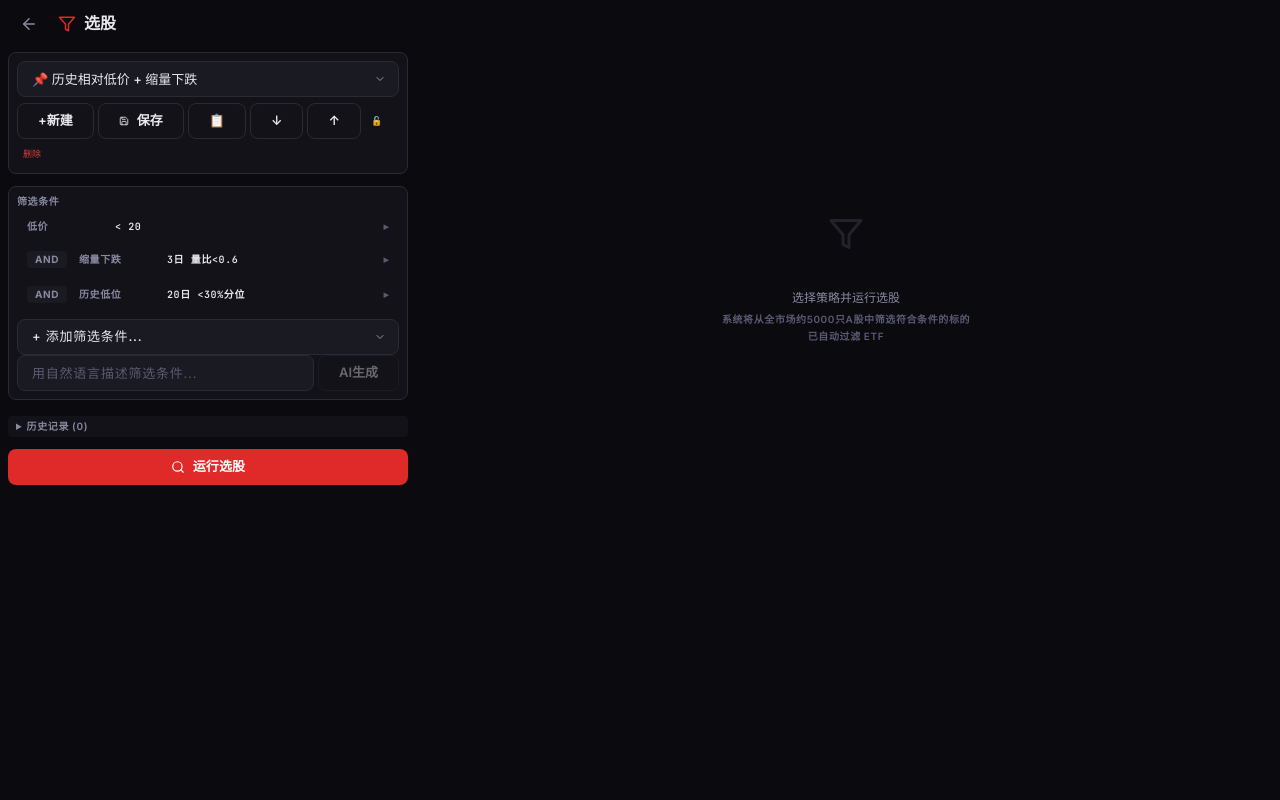
Scenario: ScreenerPage › paginates results with 50 per page and navigates pages
This screenshot has width=1280, height=800.
Check: the text "低价" is shown, box x1=27 y1=220 x2=48 y2=232
Click the button "运行选股". click: (208, 466)
box: x1=8 y1=448 x2=408 y2=484
(page scrolled)
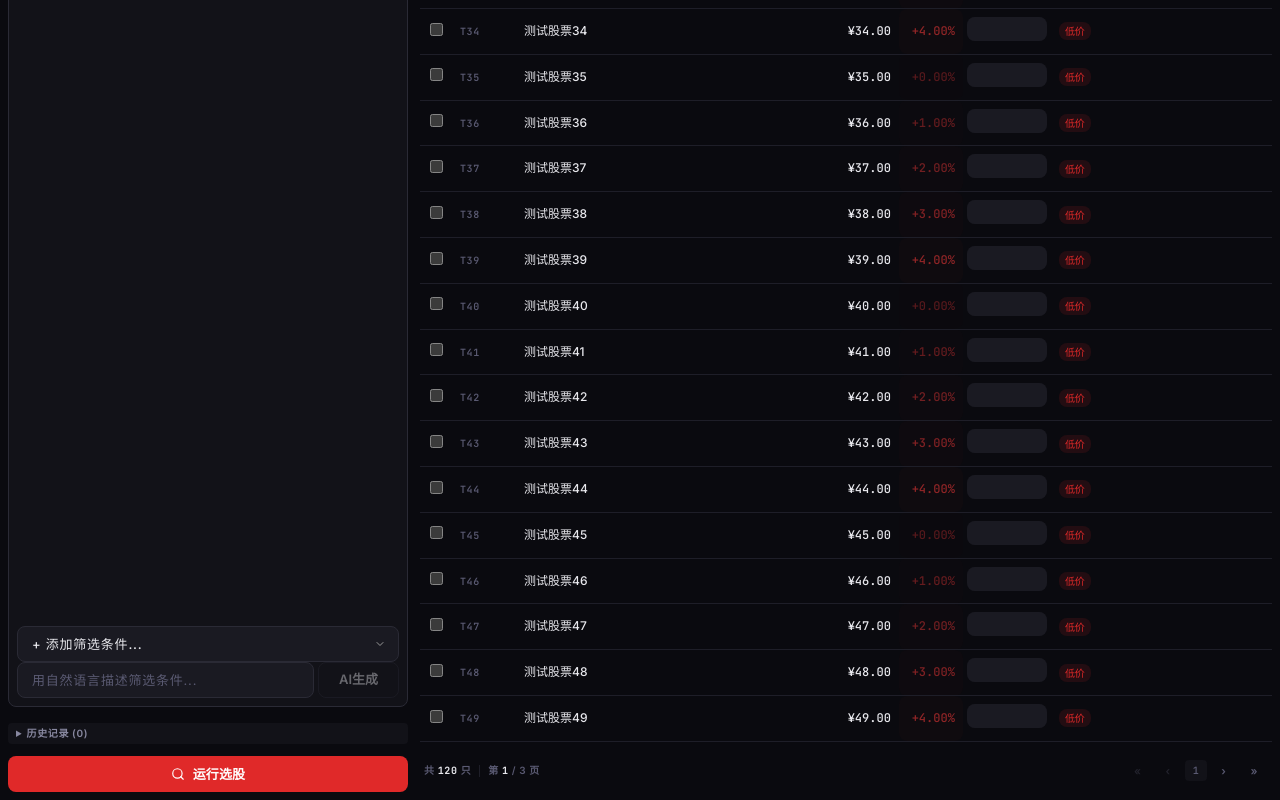
Check: the text "共 120 只" is shown, box x1=424 y1=764 x2=471 y2=778
Check: the text "第 1 / 3 页" is shown, box x1=488 y1=764 x2=540 y2=778
//  跳转到最后一页
Click the button "»". click: (1254, 771)
box: x1=1240 y1=758 x2=1268 y2=784
(page scrolled)
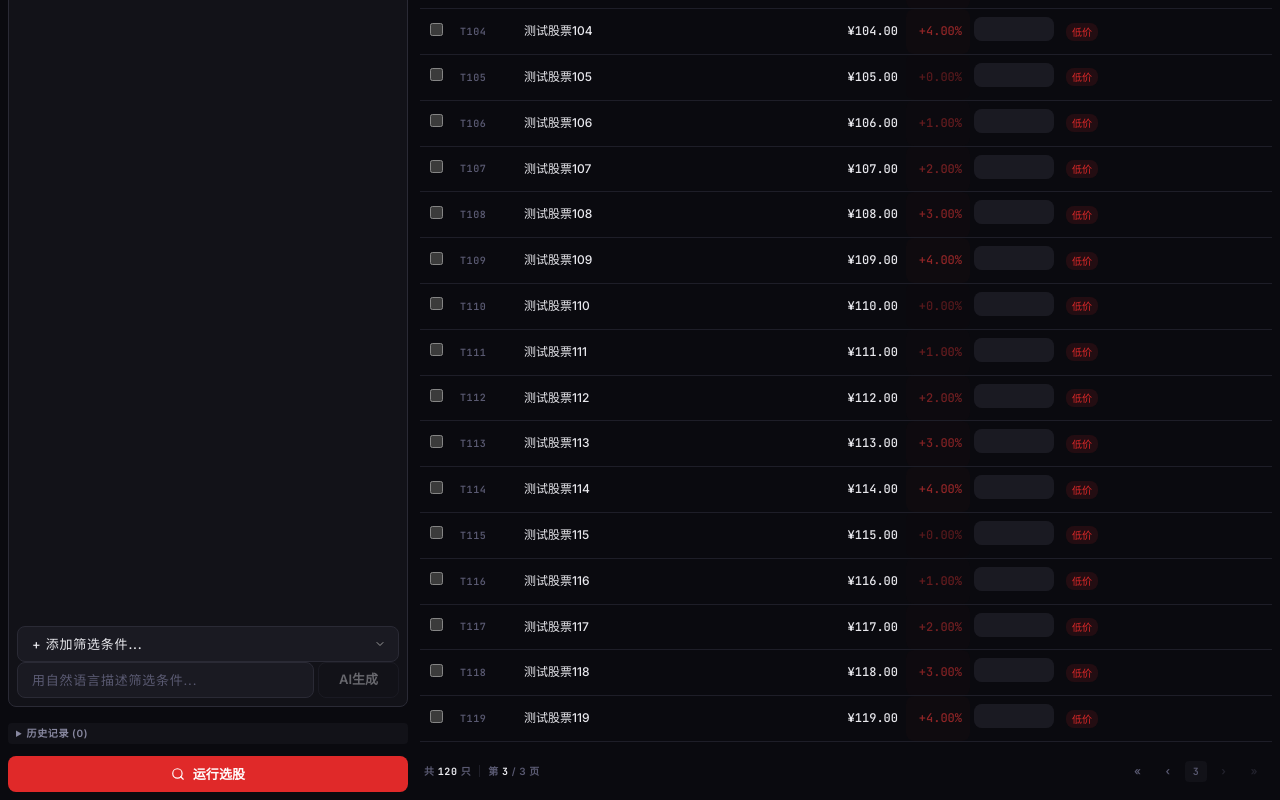
Click the button "«". click: (1138, 771)
box: x1=1124 y1=758 x2=1152 y2=784
(page scrolled)
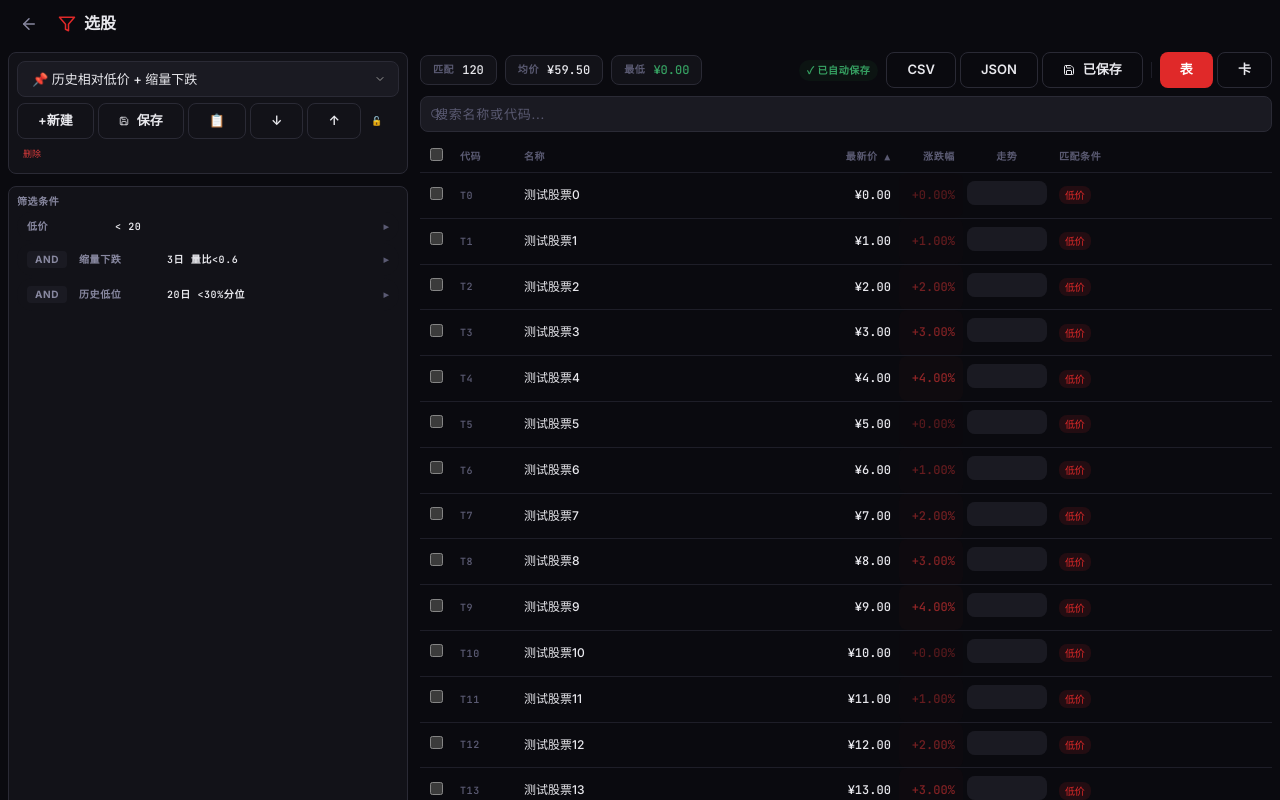
Check: the row "T0 测试股票0 ¥0.00 +0.00% 低价" is shown, box x1=420 y1=172 x2=1272 y2=218
